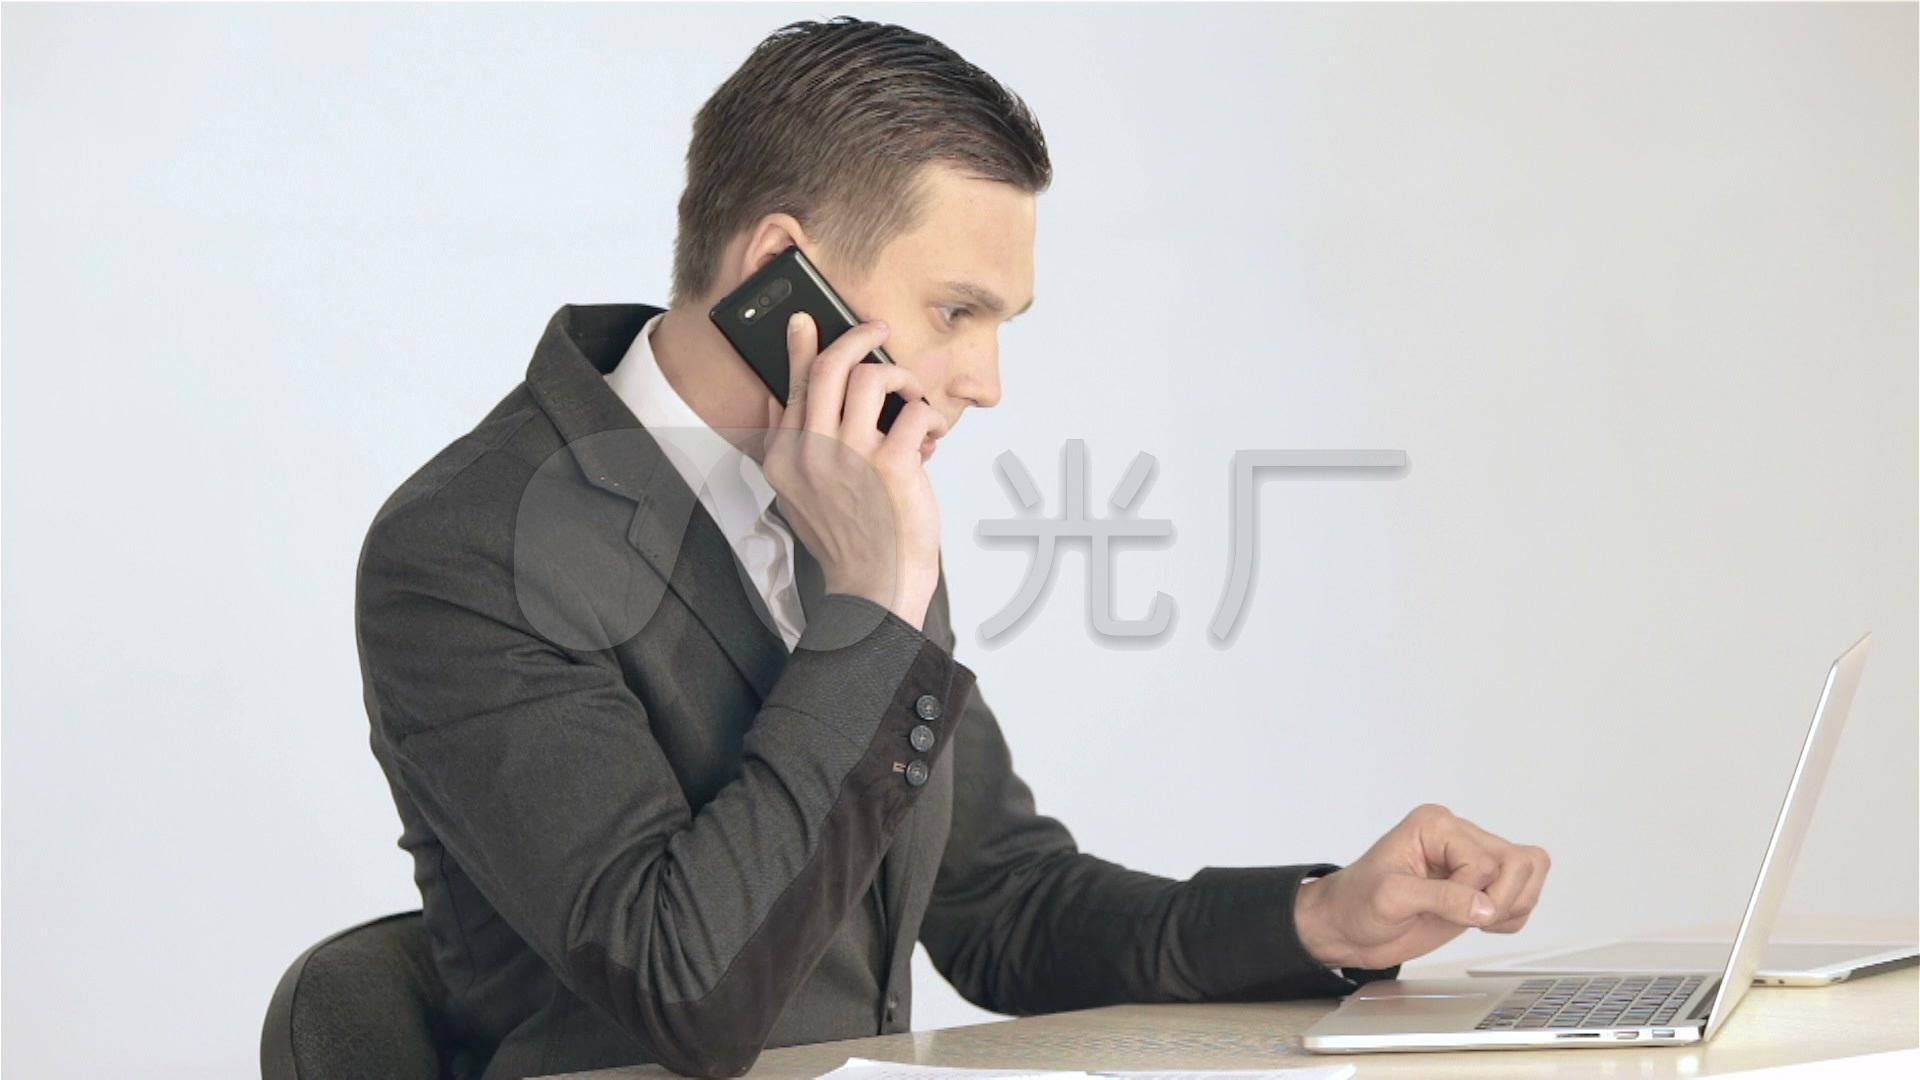calling: (702, 237, 952, 599)
